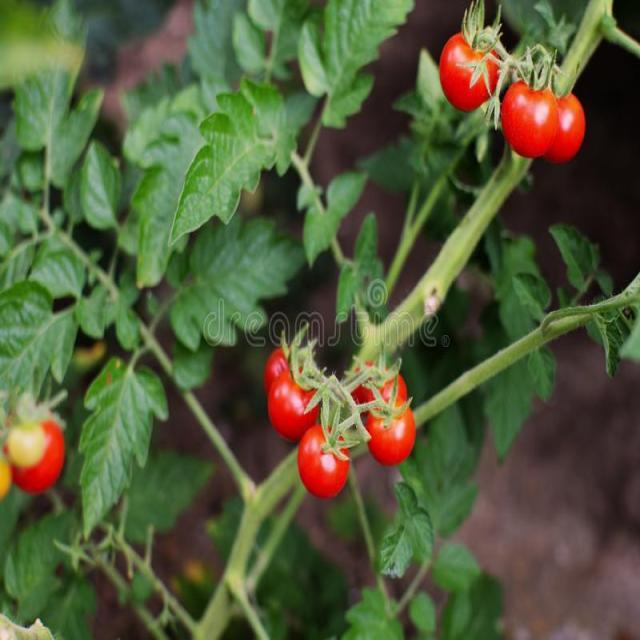kirmizi: (254, 332, 436, 496), (432, 18, 594, 174)
